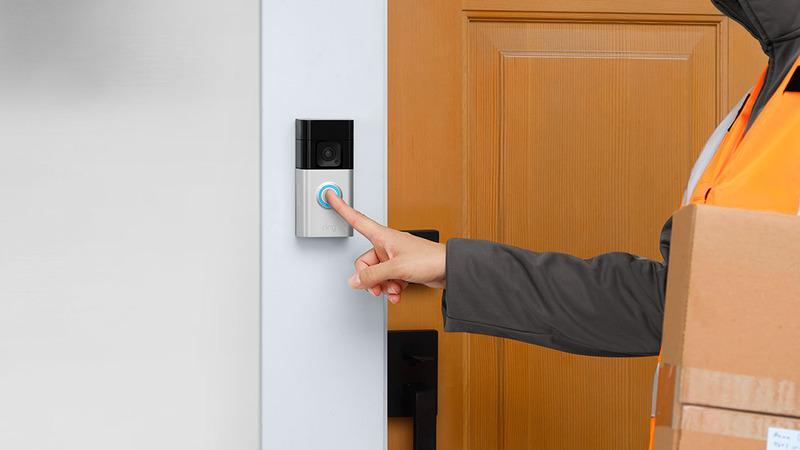doorbell: (290, 107, 362, 247)
